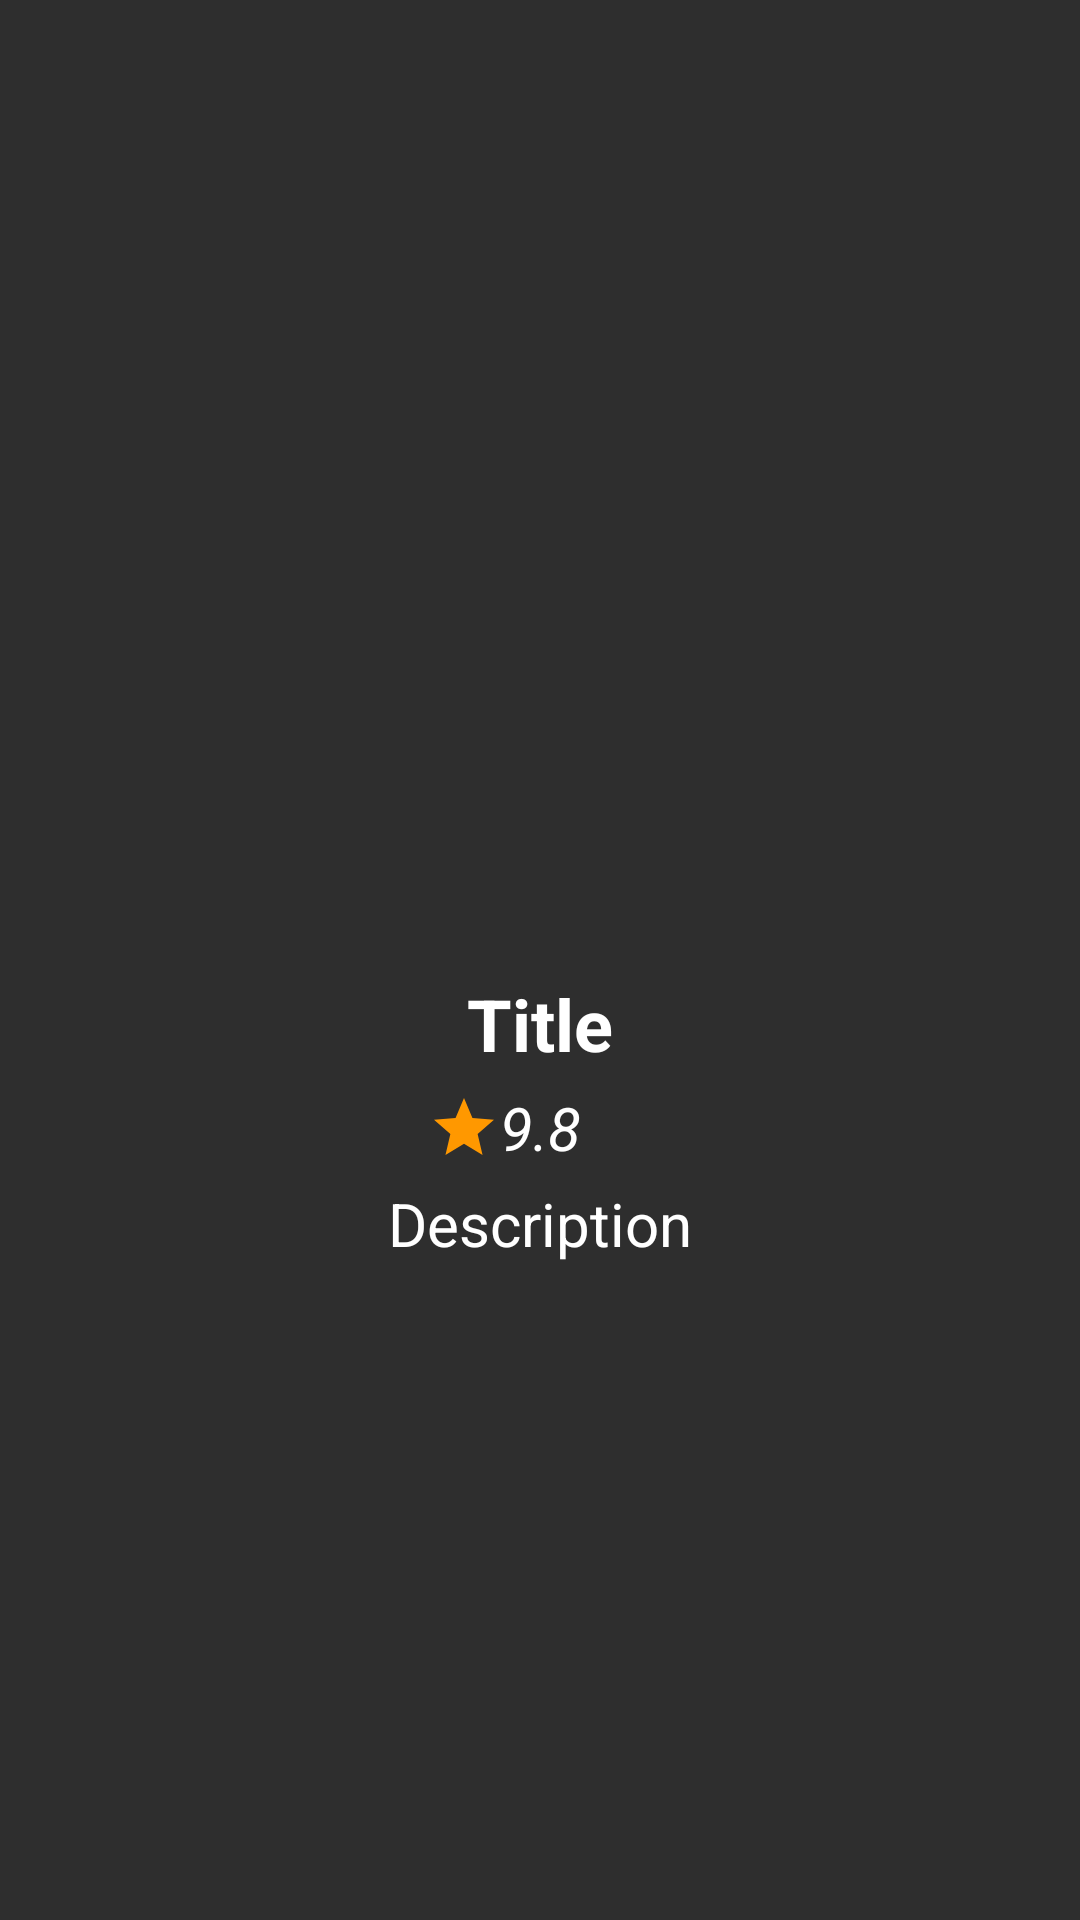

Icons on this 1080*1920 Android screen, each with the point to tap as [x,y]:
star: [464,1126]
